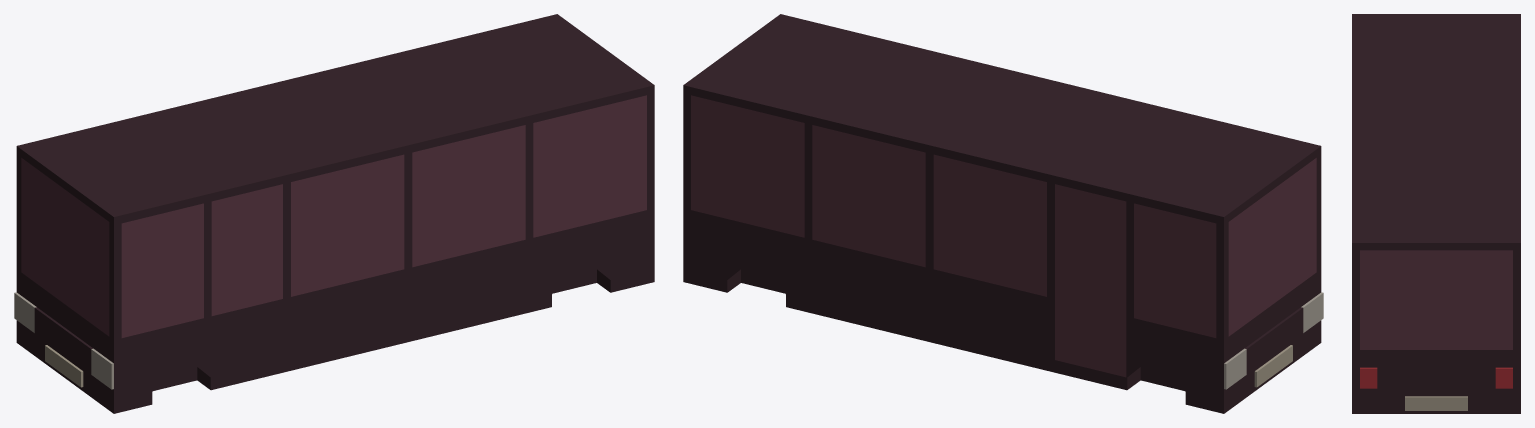
The model's file is Bus_Black.fbx.
3 views of the same model, side by side, from view 1: azimuth 30°, elevation 25°; view 2: azimuth 150°, elevation 25°; view 3: azimuth 270°, elevation 25° (orthographic). The views are drawn at different scales.
Visible parts, largest first — view 1: Bus_Black, Bus_Lights; view 2: Bus_Black, Bus_Lights; view 3: Bus_Black, Bus_Lights.
Part boxes in pixels (x1,y1,x2,y2): Bus_Black: [16, 14, 654, 413]; Bus_Lights: [14, 292, 113, 389]; Bus_Black: [683, 14, 1321, 413]; Bus_Lights: [1224, 292, 1323, 389]; Bus_Black: [1352, 14, 1520, 413]; Bus_Lights: [1360, 367, 1512, 388].
Size of the model in its own units: 6.96 by 2.4 by 2.15.
